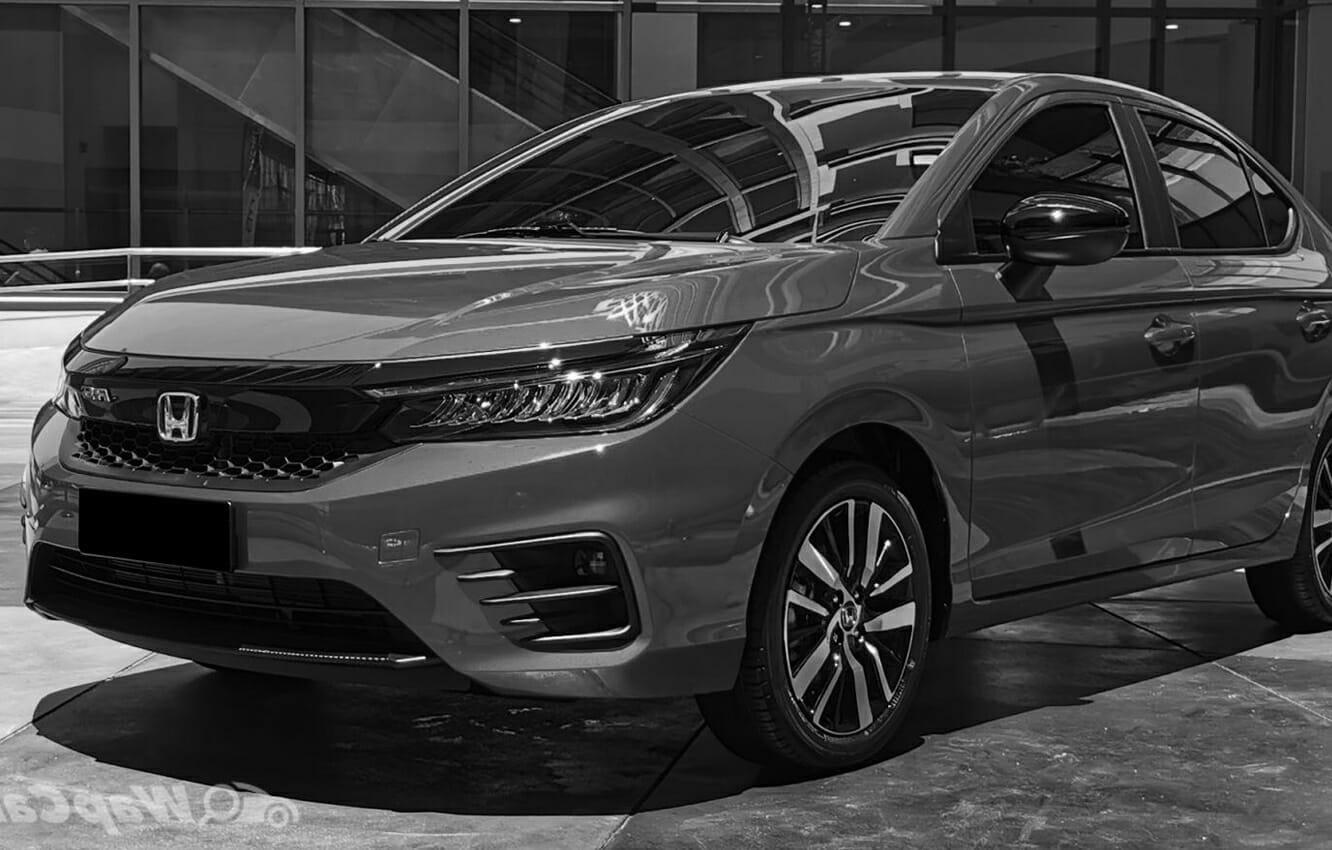Car hood: (79, 244, 867, 369)
Fender - -F-L-: (734, 233, 981, 650)
Front bumper: (22, 372, 800, 719)
Headlight - -L-: (343, 320, 754, 451)
Passenger-s door - -F-L-: (923, 44, 1202, 654)
Passenger-s door - -R-L-: (1119, 44, 1325, 650)
Side bumper - -L-: (932, 510, 1313, 686)
Side mirror - -L-: (982, 182, 1121, 305)
